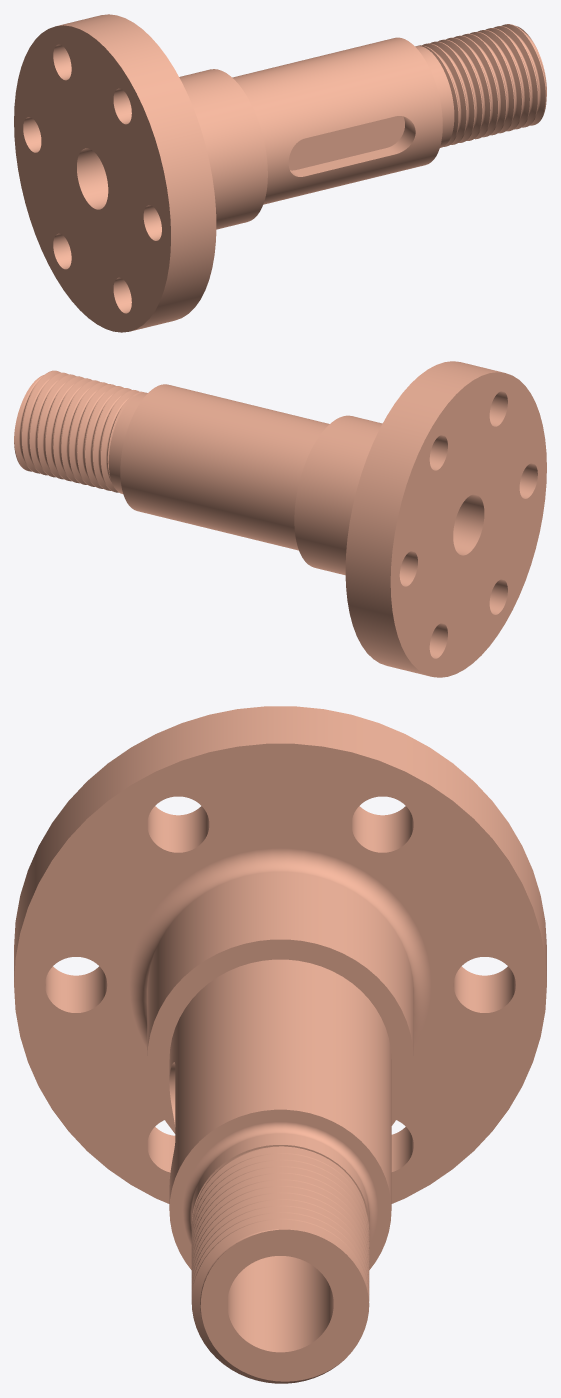
Rendered from EixoRosqueado.glb.
3 renders of one model, top to bottom at view 1: azimuth 30°, elevation 25°; view 2: azimuth 150°, elevation 25°; view 3: azimuth 270°, elevation 25°, orthographic. The views are drawn at different scales.
Parts seen in each view (by area): view 1: Part 1; view 2: Part 1; view 3: Part 1.
Part boxes in pixels (x1,y1,x2,y2): Part 1: (14,14,546,332); Part 1: (14,361,546,677); Part 1: (14,706,546,1383).
Size of the model in its own units: 0.095 by 0.0599 by 0.06.
